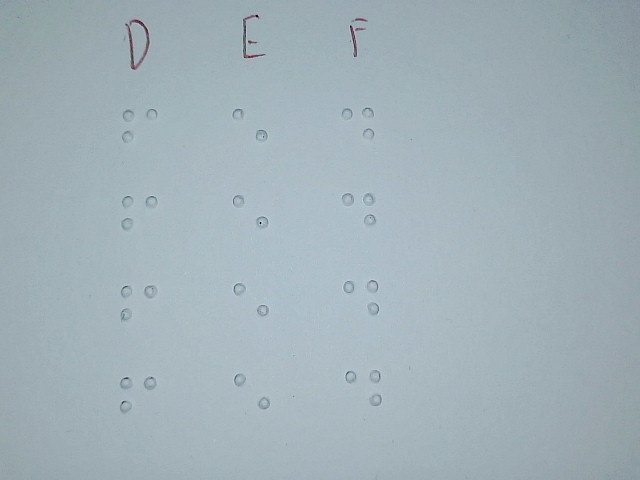D: (344, 356, 382, 419), (339, 94, 376, 157), (340, 179, 377, 242), (343, 266, 380, 329)
E: (230, 96, 270, 169), (230, 182, 270, 255), (231, 269, 271, 342), (232, 359, 272, 432)
F: (120, 96, 162, 168), (119, 182, 161, 254), (117, 273, 159, 345), (118, 364, 160, 436)
